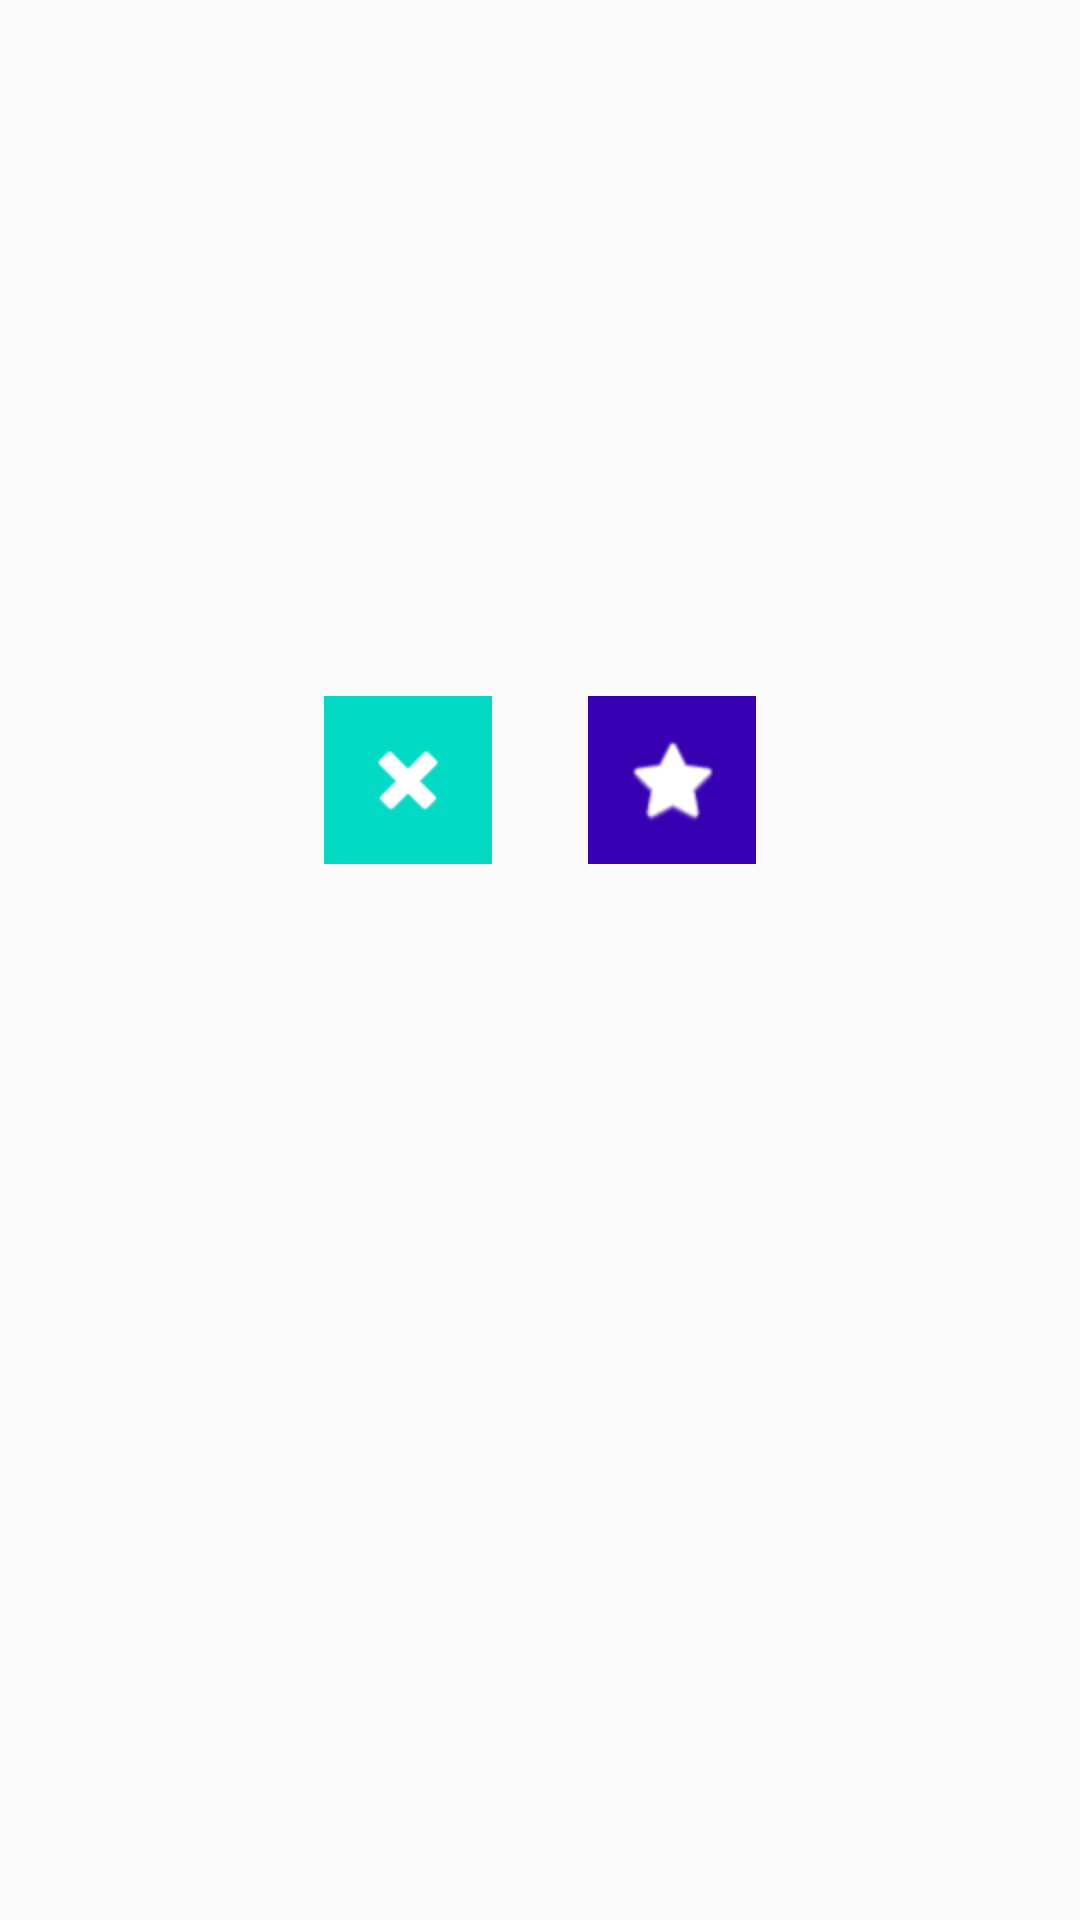

Named icons in this screenshot (1080 x 1920) and their bounding boxes, Rect(x1, y1, x2, y2):
delete: Rect(324, 696, 492, 864)
star on: Rect(588, 696, 756, 864)
